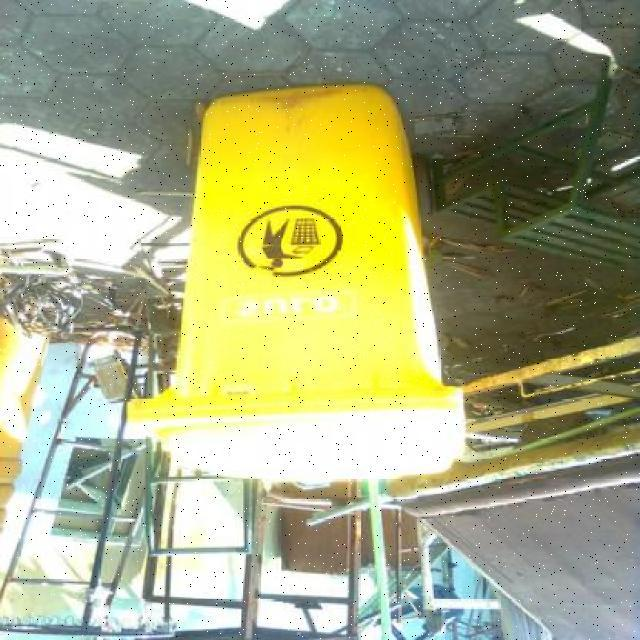garbage container: (134, 61, 487, 486)
